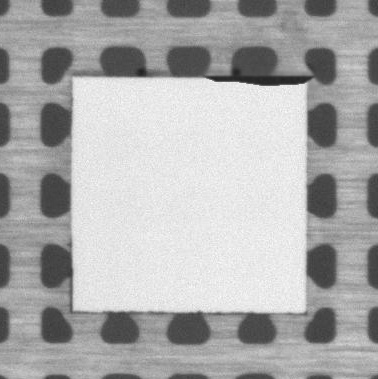DIE_BROKEN: (213, 70, 316, 88)
